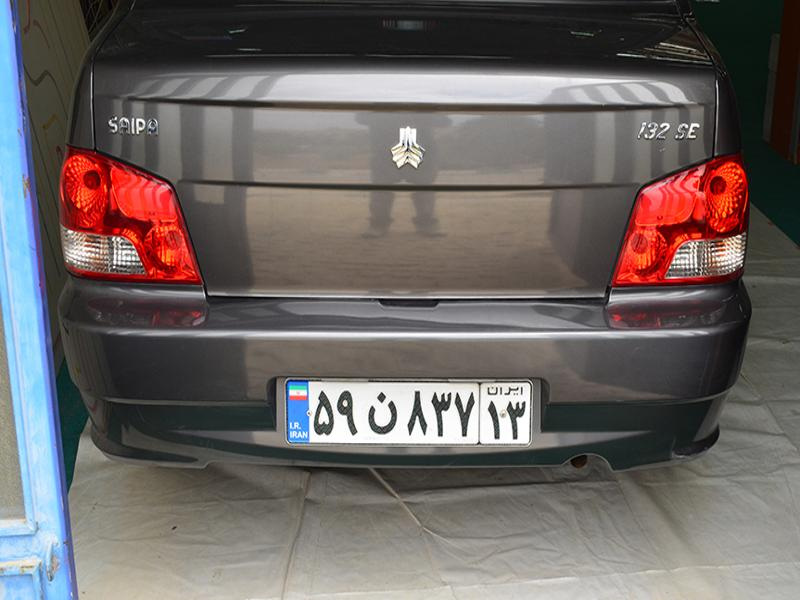Plate: (273, 373, 546, 455)
